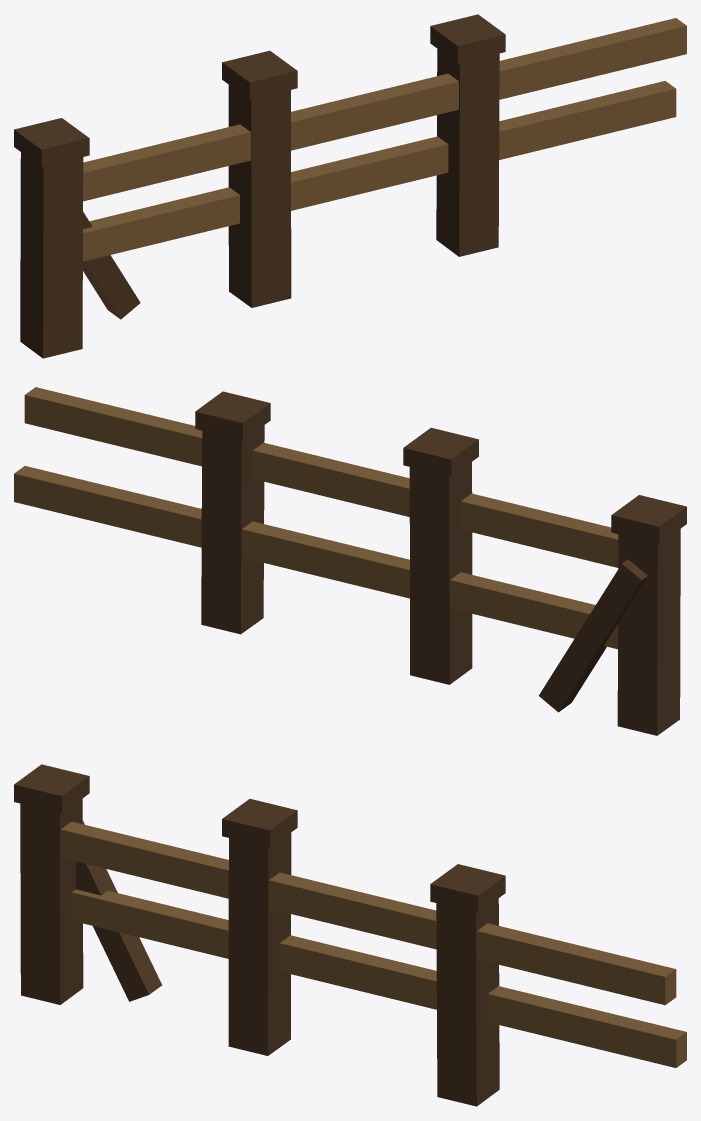
Rendered from fence_segment.glb.
The picture shows the model from 3 angles, top to bottom: view 1: azimuth 30°, elevation 25°; view 2: azimuth 150°, elevation 25°; view 3: azimuth 330°, elevation 25°; orthographic projection.
Parts seen in each view (by area): view 1: Cube.007, Cube.006, Cube, Cube.002, Cube.004, Cube.005, Cube.003, Cube.001, Cube.008; view 2: Cube.006, Cube.007, Cube.002, Cube, Cube.004, Cube.008, Cube.005, Cube.001, Cube.003; view 3: Cube.007, Cube.006, Cube.002, Cube.004, Cube, Cube.008, Cube.001, Cube.003, Cube.005.
Boxes of the visible parts, x1,y1,x2,y2 form: Cube.007: [83, 18, 686, 201]; Cube.006: [83, 81, 676, 261]; Cube: [20, 152, 83, 358]; Cube.002: [228, 85, 291, 307]; Cube.004: [436, 49, 499, 256]; Cube.005: [430, 14, 505, 63]; Cube.003: [222, 50, 297, 99]; Cube.001: [14, 118, 89, 166]; Cube.008: [83, 212, 140, 319]; Cube.006: [14, 466, 617, 649]; Cube.007: [24, 387, 618, 567]; Cube.002: [409, 462, 472, 684]; Cube: [617, 529, 680, 735]; Cube.004: [201, 425, 264, 634]; Cube.008: [539, 559, 647, 712]; Cube.005: [195, 391, 270, 440]; Cube.001: [611, 495, 686, 543]; Cube.003: [403, 427, 478, 476]; Cube.007: [60, 821, 676, 1005]; Cube.006: [71, 889, 686, 1067]; Cube.002: [228, 833, 291, 1055]; Cube.004: [436, 898, 499, 1106]; Cube: [20, 798, 83, 1004]; Cube.008: [75, 820, 161, 1001]; Cube.001: [14, 764, 89, 813]; Cube.003: [222, 799, 297, 847]; Cube.005: [430, 864, 505, 912].
Size of the model in its own units: 62.3 by 20.97 by 5.2.
